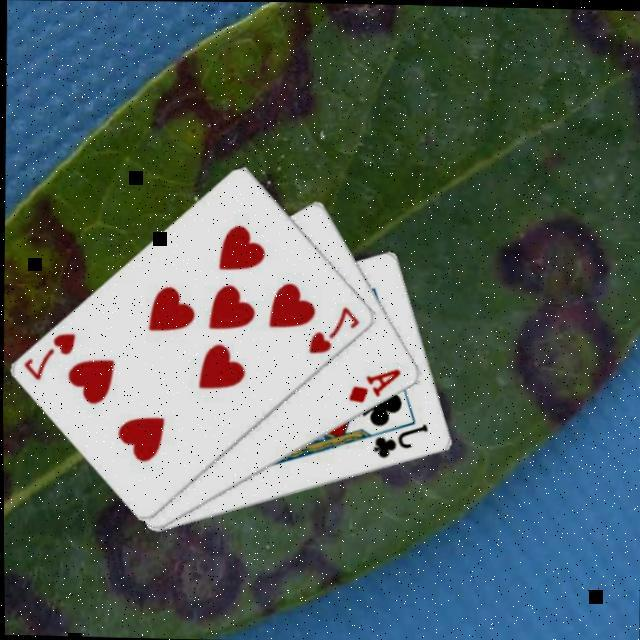7H: (302, 301, 361, 356), (18, 328, 76, 382)
AD: (342, 362, 402, 406)
JC: (367, 418, 429, 461)
